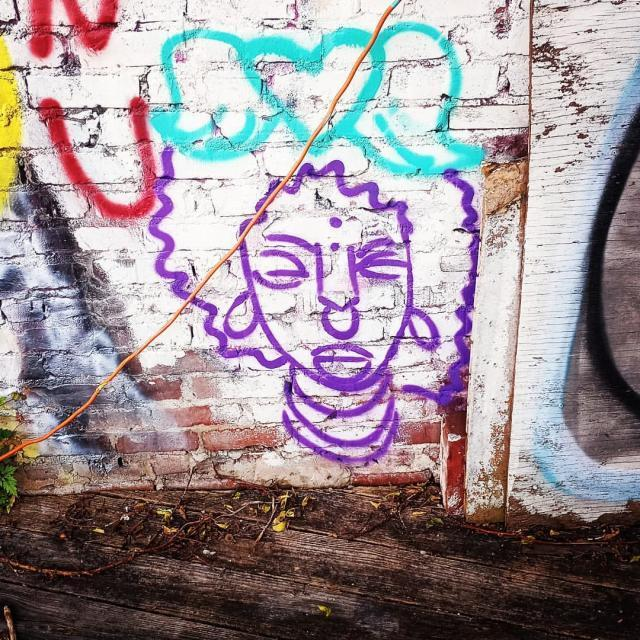-: (154, 37, 482, 458)
